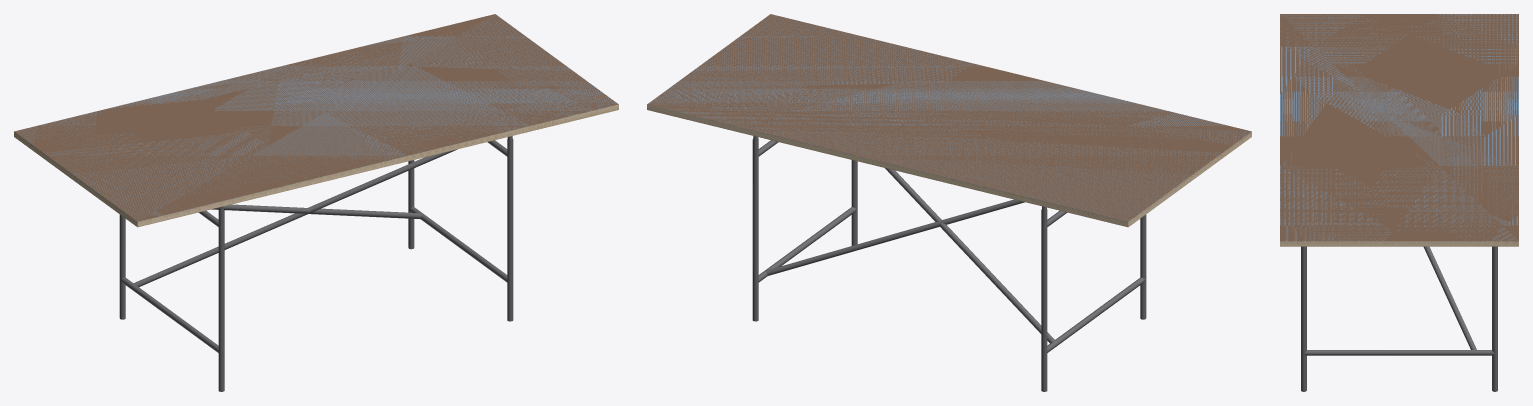
File: desk-eiermann.glb
3 renders of one model, left to right at view 1: azimuth 30°, elevation 25°; view 2: azimuth 150°, elevation 25°; view 3: azimuth 270°, elevation 25°, orthographic. The views are drawn at different scales.
Parts seen in each view (by area): view 1: TopEiermann, TopLinoleum, Frame; view 2: TopEiermann, TopLinoleum, Frame; view 3: TopEiermann, TopLinoleum, Frame.
Boxes of the visible parts, left/top/right/bottom form: TopEiermann: left=14, top=14, right=618, bottom=226; TopLinoleum: left=14, top=14, right=618, bottom=227; Frame: left=119, top=136, right=513, bottom=391; TopEiermann: left=647, top=14, right=1251, bottom=226; TopLinoleum: left=647, top=14, right=1251, bottom=227; Frame: left=752, top=136, right=1146, bottom=391; TopEiermann: left=1280, top=14, right=1518, bottom=245; TopLinoleum: left=1280, top=14, right=1518, bottom=246; Frame: left=1301, top=246, right=1497, bottom=391.
Bounding box in the file's own units: 1.8 × 0.72 × 0.8.
